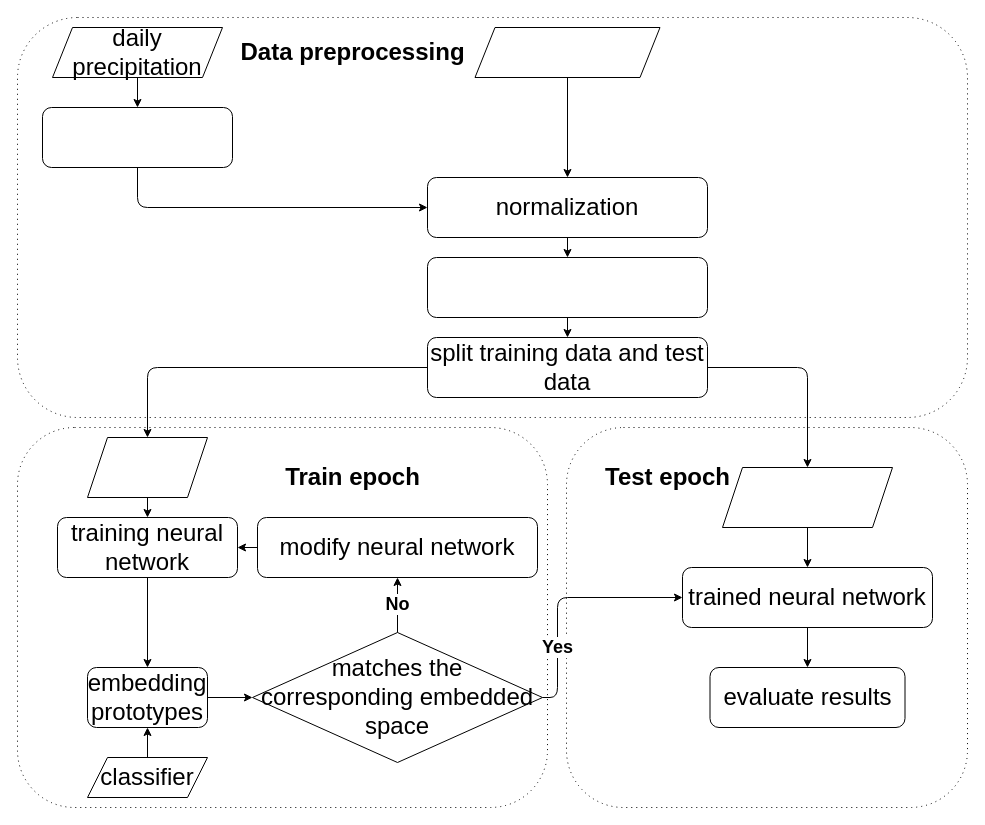
This 985x825 diagram has some shape labels left out. The centre of each missing label's shape, as x and y in pixels:
"monthly runoff" belongs at (x=567, y=52).
"restructure data for fusion-model" belongs at (x=567, y=287).
"test data" belongs at (x=807, y=497).
"training data" belongs at (x=147, y=467).
"unified temporal resolution" belongs at (x=137, y=137).
